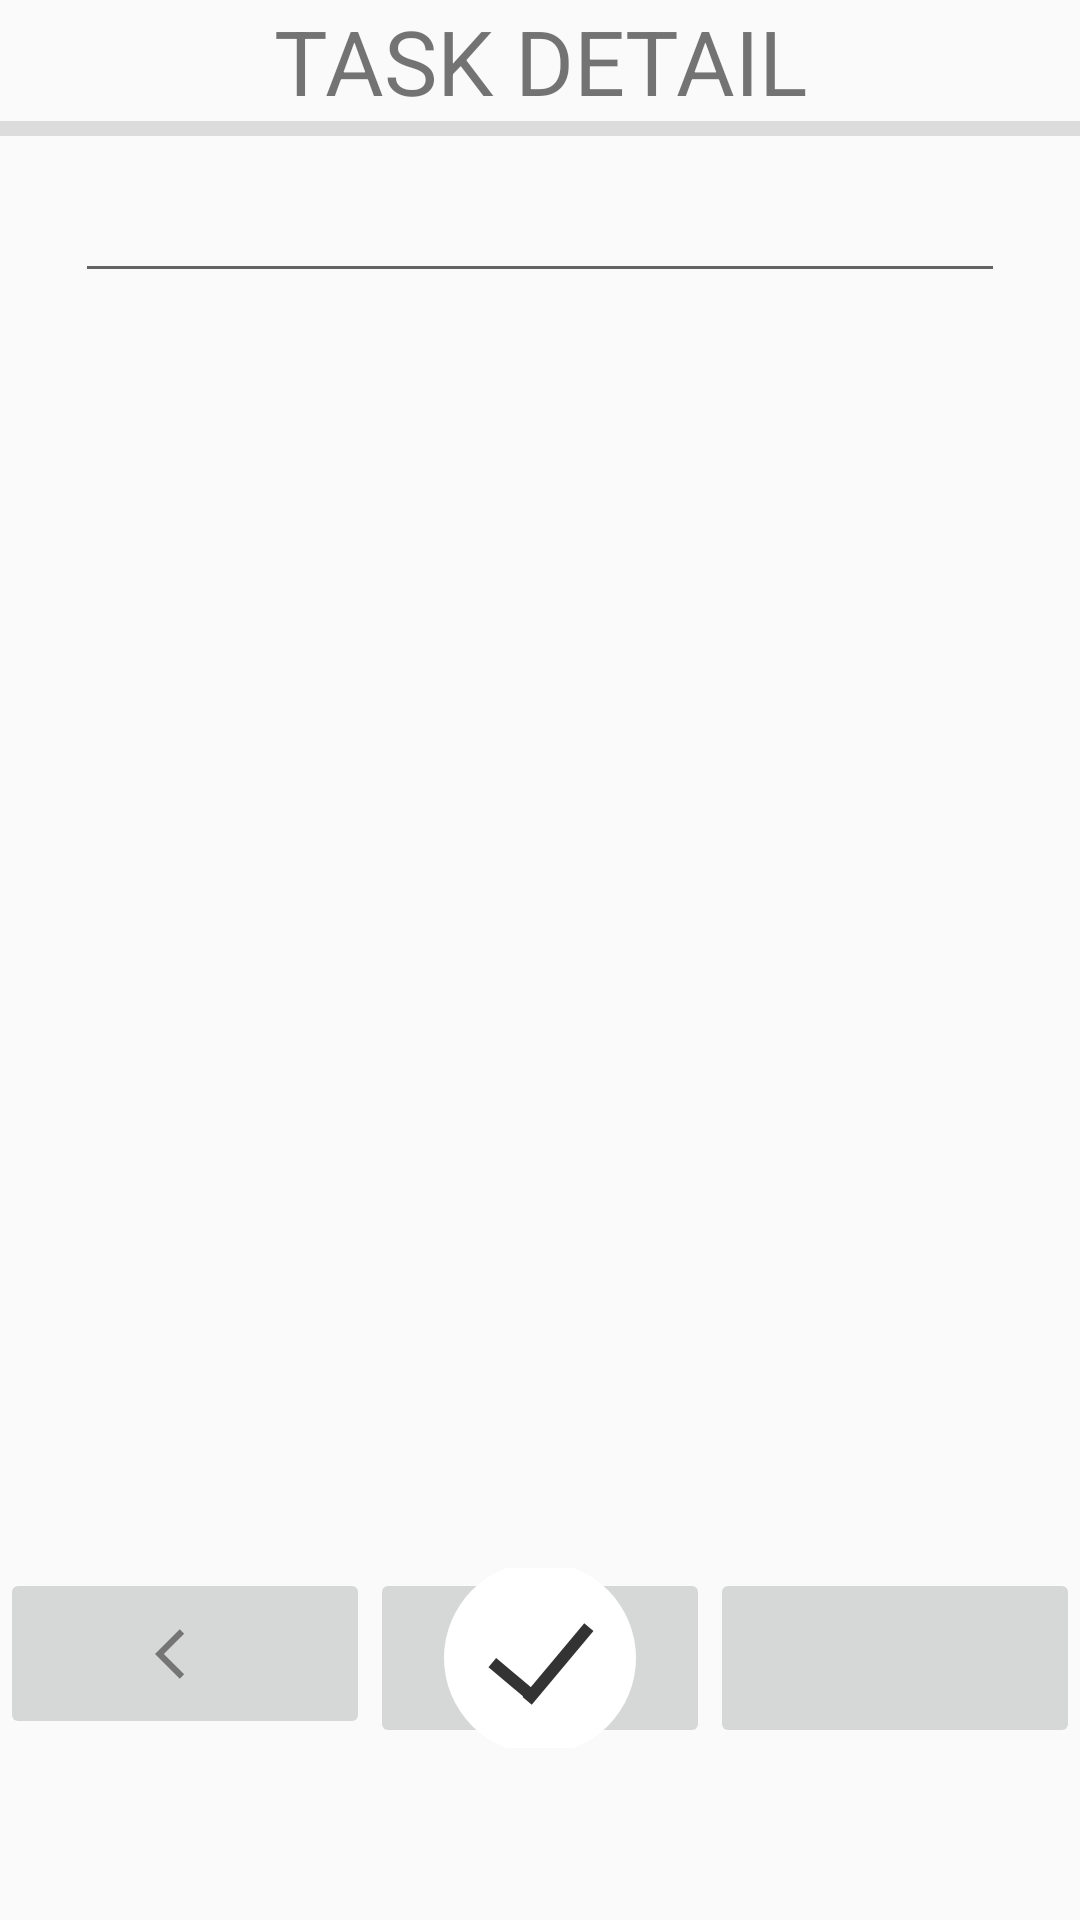

Screen size 1080w x 1920h. Icon name, then its box in pixels as {"x1": x1, "y1": y1, "x2": x2, "y2": y2}:
back: {"x1": 12, "y1": 1586, "x2": 358, "y2": 1721}
save: {"x1": 382, "y1": 1586, "x2": 698, "y2": 1730}
